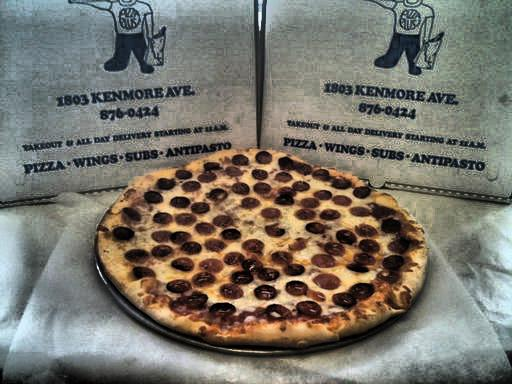pizza: (99, 159, 435, 335)
